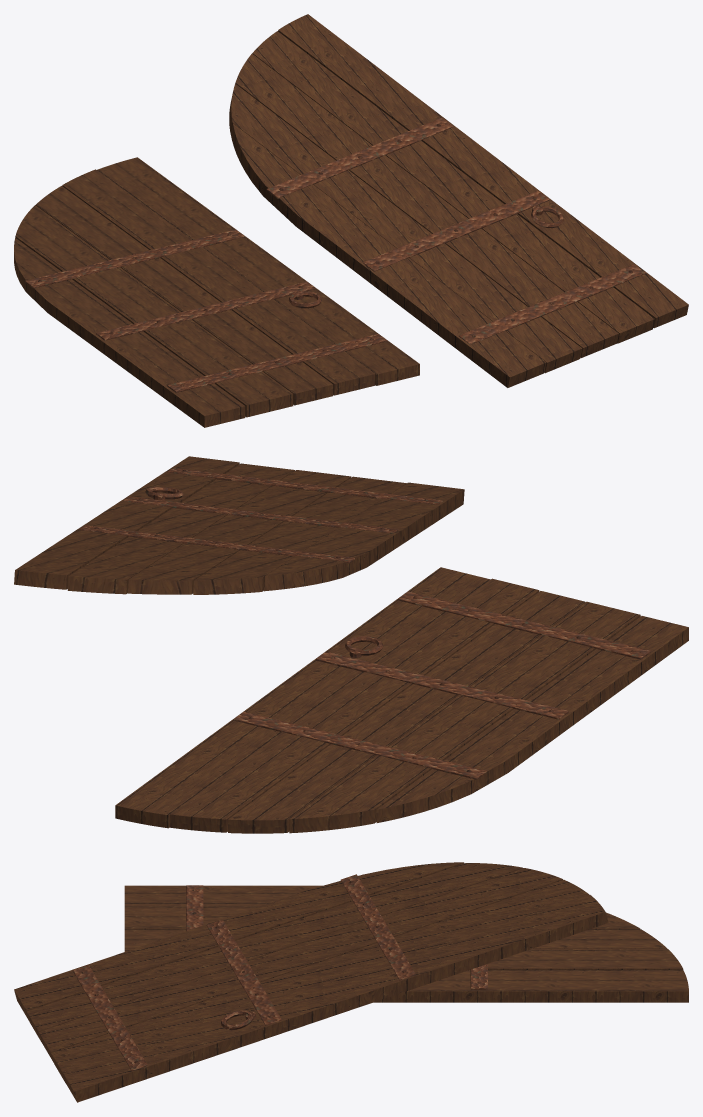
File: gate_broken__cut_stone.glb
3 renders of one model, top to bottom at view 1: azimuth 30°, elevation 25°; view 2: azimuth 150°, elevation 25°; view 3: azimuth 270°, elevation 25°, orthographic. The views are drawn at different scales.
Parts seen in each view (by area): view 1: model; view 2: model; view 3: model.
Boxes of the visible parts, <box> form: model: <box>14,14,688,427</box>; model: <box>14,456,688,833</box>; model: <box>14,862,688,1102</box>.
Size of the model in its own units: 3.35 by 1.08 by 4.27.
3 materials, 3 textured.
